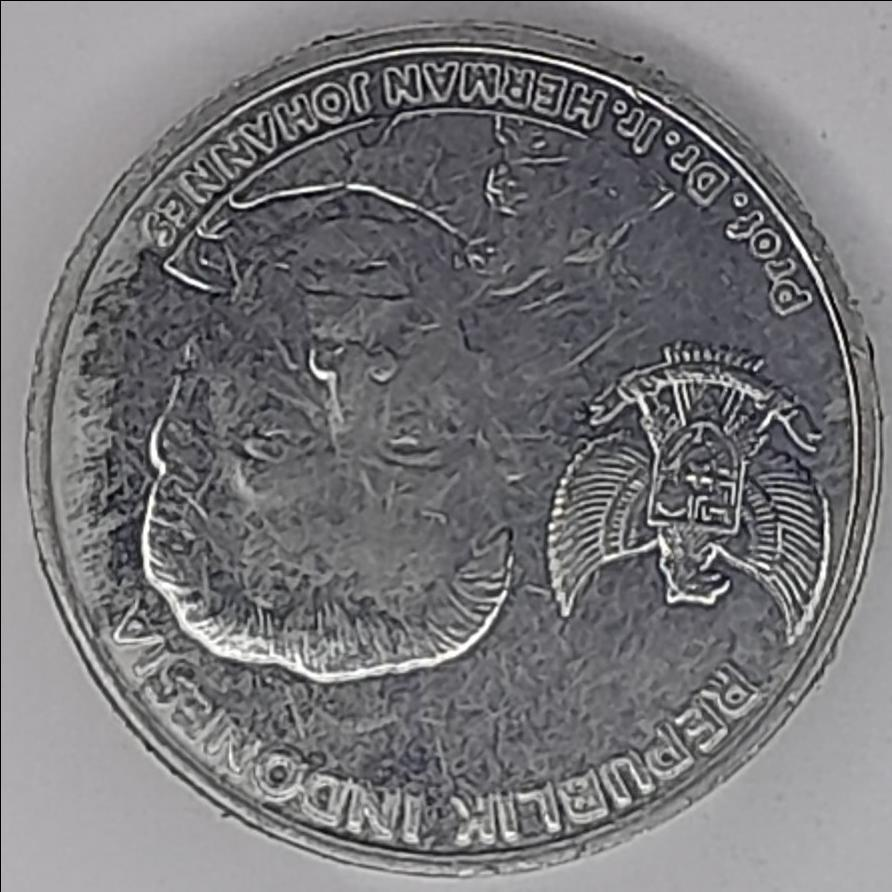coin_100_e2016: (19, 12, 890, 879)
